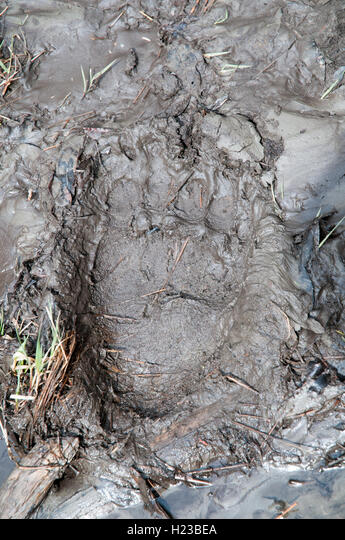bear: (61, 106, 270, 431)
